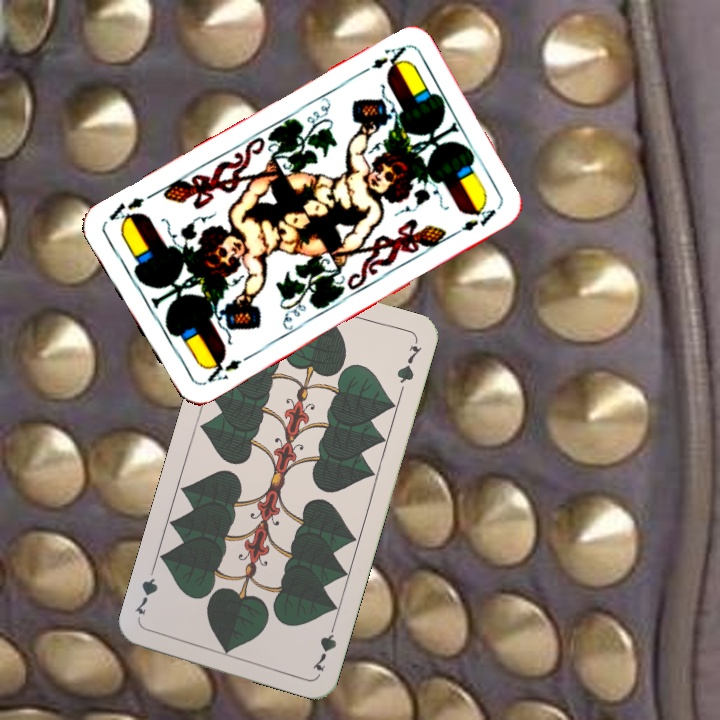EA: (201, 352, 245, 385), (367, 42, 409, 73)
G7: (308, 617, 340, 674)
